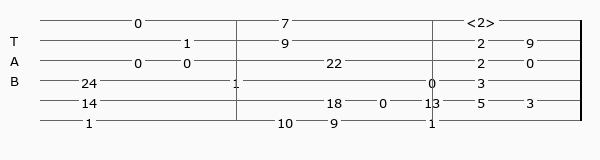0: (134, 54, 146, 67), (134, 14, 146, 27), (183, 54, 195, 67), (379, 94, 391, 107), (428, 74, 440, 87), (526, 54, 538, 67)
1: (85, 114, 97, 127), (183, 34, 195, 47), (232, 74, 244, 87), (428, 114, 440, 127)
10: (277, 114, 297, 127)
13: (424, 94, 444, 107)
14: (81, 94, 101, 107)
18: (326, 94, 346, 107)
2: (477, 54, 489, 67), (477, 34, 489, 47)
22: (326, 54, 346, 67)
24: (81, 74, 101, 87)
3: (477, 74, 489, 87), (526, 94, 538, 107)
5: (477, 94, 489, 107)
7: (281, 14, 293, 27)
9: (281, 34, 293, 47), (330, 114, 342, 127), (526, 34, 538, 47)
harmonic: (466, 13, 500, 27)
